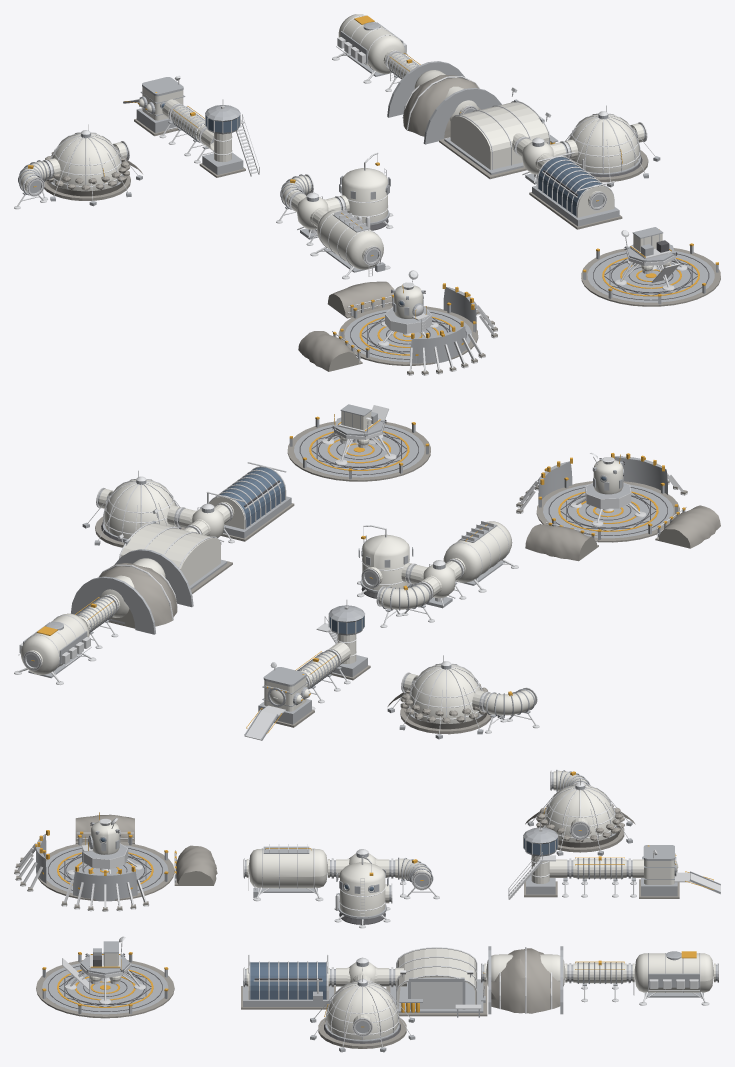
The model's file is connector-cases-9058f711.glb.
The picture shows the model from 3 angles, top to bottom: view 1: azimuth 30°, elevation 25°; view 2: azimuth 150°, elevation 25°; view 3: azimuth 270°, elevation 25°; orthographic projection. The views are drawn at different scales.
Visible parts, largest first — view 1: 007-workshop-module/2, 022-landing-pad/1, 006-inflatable-dome-habitat/0, 015-inflatable-dome-habitat-shielded/0, 012-regolith-shielded-habitat/1, 016-landing-pad/1, 002-medical-module/0, 001-rigid-cylinder-habitat/0, 012-regolith-shielded-habitat/3, 015-inflatable-dome-habitat-shielded/2, 013-rigid-cylinder-habitat-logistics/0, 005-greenhouse-module/2 (+28 smaller); view 2: 022-landing-pad/1, 016-landing-pad/1, 012-regolith-shielded-habitat/1, 015-inflatable-dome-habitat-shielded/0, 007-workshop-module/2, 006-inflatable-dome-habitat/0, 012-regolith-shielded-habitat/3, 001-rigid-cylinder-habitat/0, 002-medical-module/0, 019-blast-berm-segment/0, 013-rigid-cylinder-habitat-logistics/0, 015-inflatable-dome-habitat-shielded/2 (+34 smaller); view 3: 022-landing-pad/1, 012-regolith-shielded-habitat/3, 006-inflatable-dome-habitat/0, 001-rigid-cylinder-habitat/0, 015-inflatable-dome-habitat-shielded/0, 016-landing-pad/1, 005-greenhouse-module/2, 007-workshop-module/2, 013-rigid-cylinder-habitat-logistics/0, 002-medical-module/0, 020-blast-deflector-wall/0, 015-inflatable-dome-habitat-shielded/2 (+44 smaller).
Boxes of the visible parts, bbox=[...] form: 007-workshop-module/2: bbox=[450, 102, 548, 169]; 022-landing-pad/1: bbox=[583, 246, 718, 304]; 006-inflatable-dome-habitat/0: bbox=[565, 114, 644, 172]; 015-inflatable-dome-habitat-shielded/0: bbox=[47, 133, 126, 191]; 012-regolith-shielded-habitat/1: bbox=[387, 61, 501, 144]; 016-landing-pad/1: bbox=[340, 305, 475, 363]; 002-medical-module/0: bbox=[339, 168, 387, 222]; 001-rigid-cylinder-habitat/0: bbox=[317, 210, 383, 269]; 012-regolith-shielded-habitat/3: bbox=[403, 75, 480, 138]; 015-inflatable-dome-habitat-shielded/2: bbox=[44, 151, 142, 200]; 013-rigid-cylinder-habitat-logistics/0: bbox=[338, 14, 405, 73]; 005-greenhouse-module/2: bbox=[538, 157, 601, 216]; 022-landing-pad/1: bbox=[289, 419, 428, 479]; 016-landing-pad/1: bbox=[539, 480, 677, 539]; 012-regolith-shielded-habitat/1: bbox=[71, 549, 193, 634]; 015-inflatable-dome-habitat-shielded/0: bbox=[404, 664, 485, 723]; 007-workshop-module/2: bbox=[120, 523, 220, 585]; 006-inflatable-dome-habitat/0: bbox=[99, 480, 180, 538]; 012-regolith-shielded-habitat/3: bbox=[97, 563, 177, 628]; 001-rigid-cylinder-habitat/0: bbox=[443, 521, 512, 582]; 002-medical-module/0: bbox=[362, 534, 411, 590]; 019-blast-berm-segment/0: bbox=[525, 524, 598, 561]; 013-rigid-cylinder-habitat-logistics/0: bbox=[20, 613, 89, 674]; 015-inflatable-dome-habitat-shielded/2: bbox=[387, 683, 491, 734]; 022-landing-pad/1: bbox=[42, 954, 168, 1014]; 012-regolith-shielded-habitat/3: bbox=[491, 948, 560, 1013]; 006-inflatable-dome-habitat/0: bbox=[327, 982, 397, 1039]; 001-rigid-cylinder-habitat/0: bbox=[246, 848, 329, 888]; 015-inflatable-dome-habitat-shielded/0: bbox=[544, 785, 615, 842]; 016-landing-pad/1: bbox=[43, 837, 168, 895]; 005-greenhouse-module/2: bbox=[250, 962, 326, 999]; 007-workshop-module/2: bbox=[395, 948, 476, 1008]; 013-rigid-cylinder-habitat-logistics/0: bbox=[632, 953, 715, 992]; 002-medical-module/0: bbox=[340, 862, 389, 916]; 020-blast-deflector-wall/0: bbox=[73, 871, 137, 901]; 015-inflatable-dome-habitat-shielded/2: bbox=[525, 803, 635, 852].
Size of the model in its own units: 61.66 by 7.6 by 71.45.
